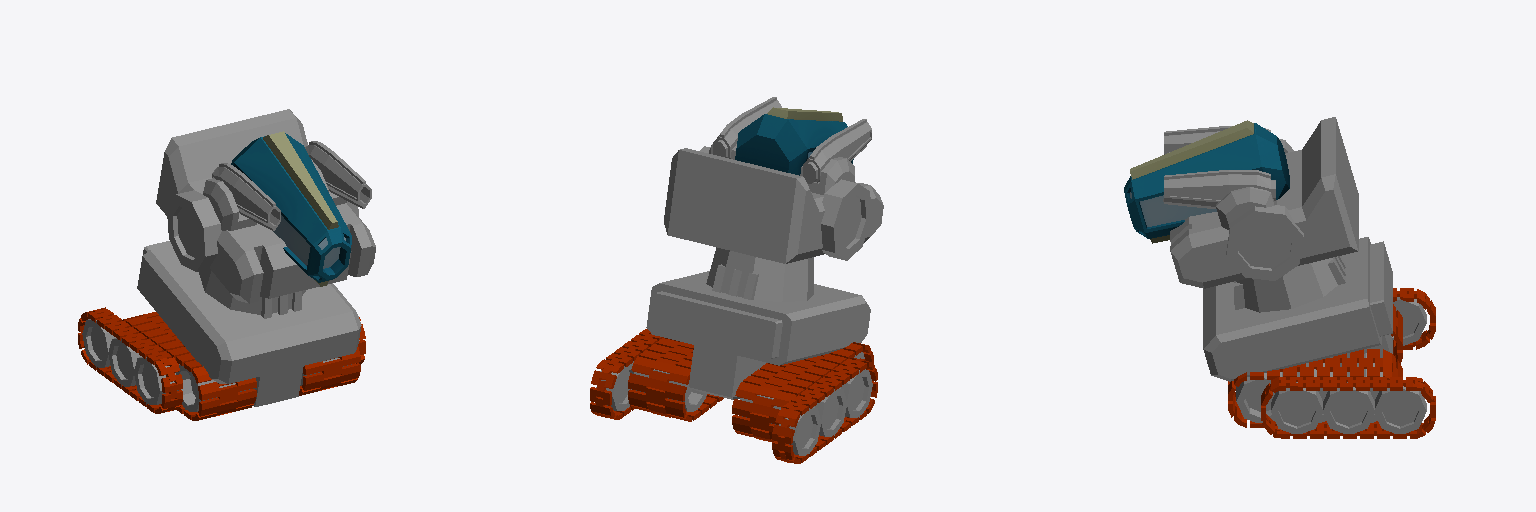
3 renders of one model, left to right at view 1: azimuth 30°, elevation 25°; view 2: azimuth 150°, elevation 25°; view 3: azimuth 270°, elevation 25°, orthographic.
Visible parts, largest first — view 1: Object004, Object012, Box038, Box043, Object013, Box042, Object011; view 2: Object004, Box038, Box042, Box043, Object012, Object013, Box044, Object014, Object011; view 3: Object004, Object014, Box044, Object012, Box042, Object011, Object013, Box043.
Part boxes in pixels (bbox=[...]): Object004: bbox=[137, 109, 375, 406]; Object012: bbox=[212, 141, 371, 230]; Box038: bbox=[122, 312, 256, 420]; Box043: bbox=[78, 307, 182, 413]; Object013: bbox=[82, 319, 177, 404]; Box042: bbox=[299, 347, 360, 395]; Object011: bbox=[176, 358, 351, 411]; Object004: bbox=[646, 107, 883, 399]; Box038: bbox=[732, 342, 873, 442]; Box042: bbox=[628, 338, 723, 421]; Box043: bbox=[772, 358, 877, 463]; Object012: bbox=[713, 97, 871, 183]; Object013: bbox=[779, 369, 872, 455]; Box044: bbox=[590, 329, 663, 419]; Object014: bbox=[596, 361, 635, 410]; Object011: bbox=[636, 352, 864, 424]; Object004: bbox=[1124, 117, 1392, 381]; Object014: bbox=[1271, 382, 1426, 433]; Box044: bbox=[1261, 377, 1435, 438]; Object012: bbox=[1163, 126, 1275, 208]; Box042: bbox=[1228, 349, 1402, 427]; Object011: bbox=[1236, 336, 1391, 422]; Object013: bbox=[1392, 297, 1426, 345]; Box043: bbox=[1393, 288, 1435, 349].
Size of the model in its own units: 139 by 177 by 187.
Materials: 4 (1 with a texture image).